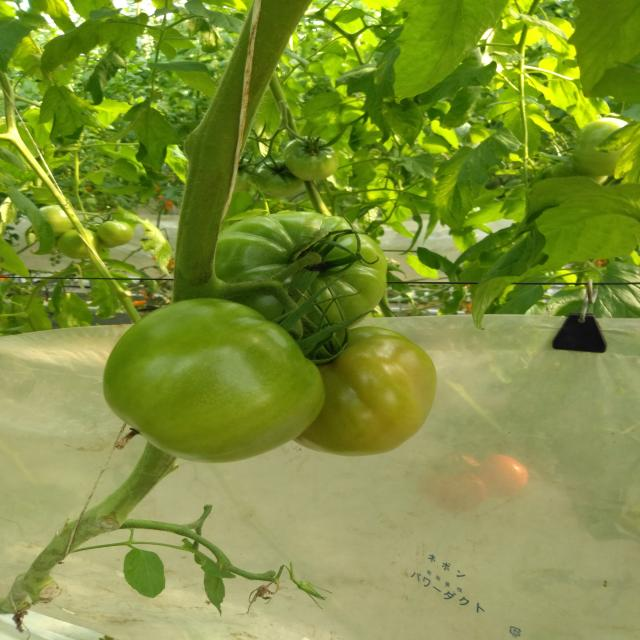yesil: (103, 191, 478, 511)
